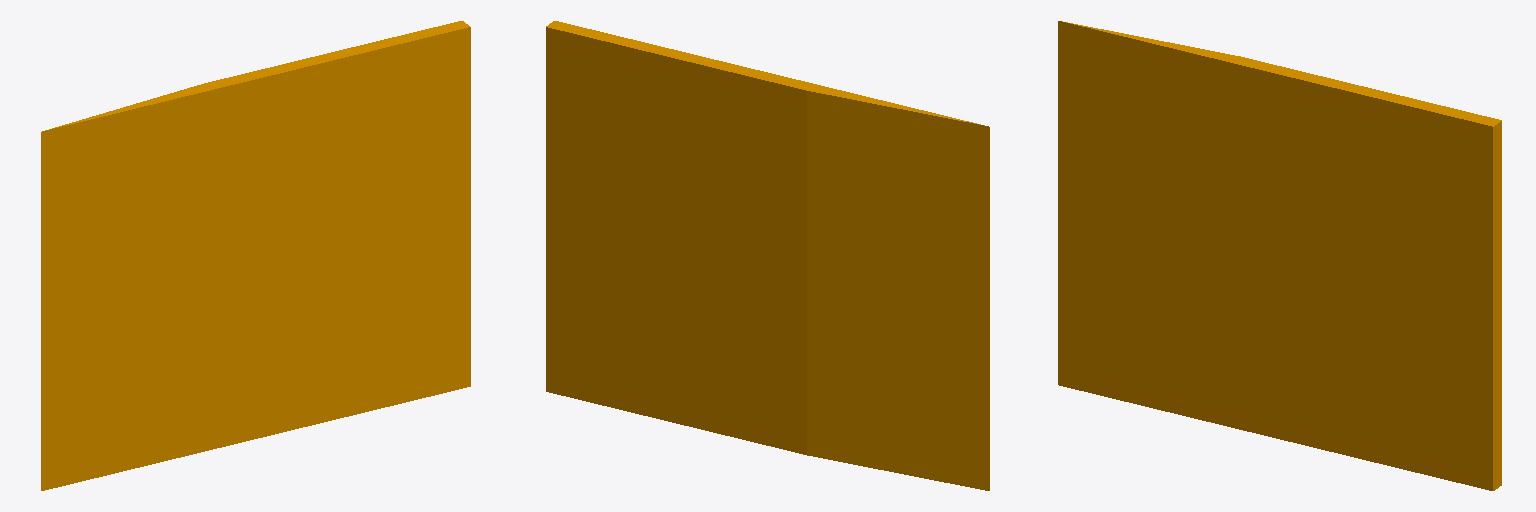
The robot description file, URDF, robot "slope":
<?xml version="1.0" ?>
<robot name="slope">

<material name="silver">
  <color rgba="0.700 0.700 0.700 1.000"/>
</material>

<link name="base_link">
  <inertial>
    <origin xyz="1.479166666666666 0.0400989707827151 1.0" rpy="0 0 0"/>
    <mass value="2747.14403471402"/>
    <inertia ixx="917.4304533721379" iyy="1944.7013544351448" izz="1030.702451331269" ixy="-9.805699761446363" iyz="1.4210854715202004e-14" ixz="-9.094947017729282e-13"/>
  </inertial>
  <visual>
    <origin xyz="0 0 0" rpy="0 0 0"/>
    <geometry>
      <mesh filename="base_link.stl" scale="0.001 0.001 0.001"/>
    </geometry>
    <material name="silver"/>
    <material/>
  </visual>
  <collision>
    <origin xyz="0 0 0" rpy="0 0 0"/>
    <geometry>
      <mesh filename="base_link.stl" scale="0.001 0.001 0.001"/>
    </geometry>
  </collision>
</link>

</robot>

--- Facts derived from the render (not from the file) ---
The picture shows the robot from 3 angles, left to right: view 1: azimuth 30°, elevation 25°; view 2: azimuth 150°, elevation 25°; view 3: azimuth 330°, elevation 25°; orthographic projection.
Model slope with 1 links and 0 joints (none), rooted at base_link, posed all joints at 0.
Visible links, largest first — view 1: base_link; view 2: base_link; view 3: base_link.
Link boxes in pixels (x1,y1,x2,y2): base_link: (41,21,470,490); base_link: (546,21,989,490); base_link: (1058,21,1501,490).
Size in the robot's own frame: 2.5 by 0.0875 by 2 metres.
Meshes: 1 distinct files referenced, 1 mesh visuals loaded (1 binary STL).